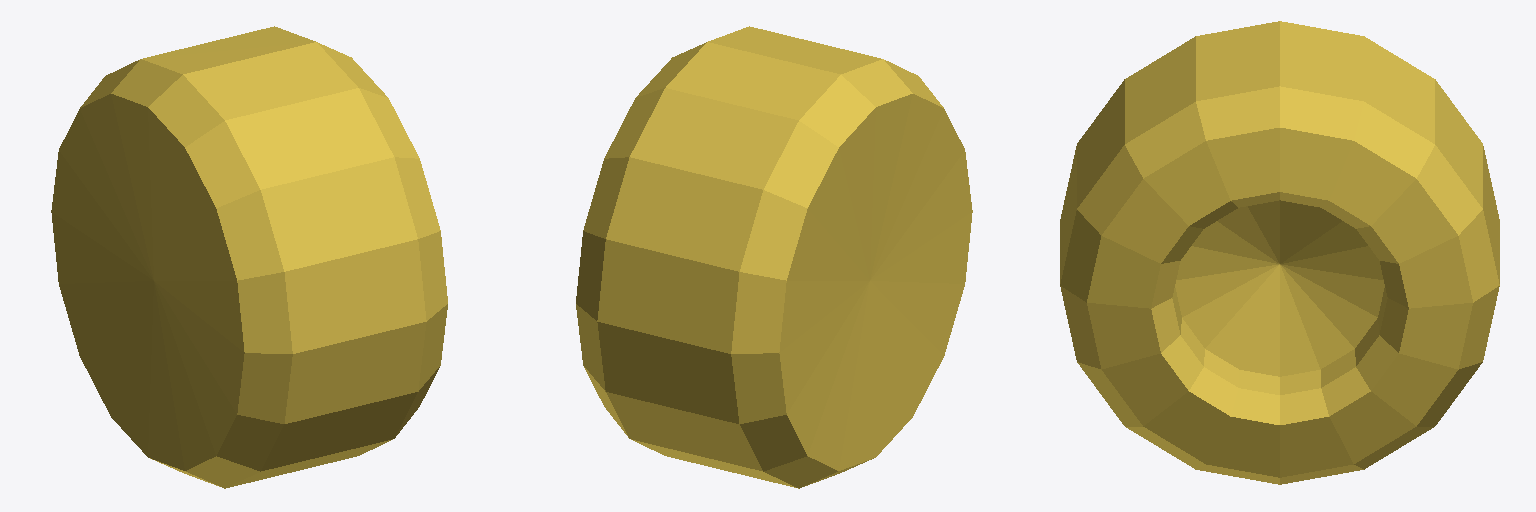
Rendered from frontRightWheel.obj.
3 views of the same model, side by side, from view 1: azimuth 30°, elevation 25°; view 2: azimuth 150°, elevation 25°; view 3: azimuth 270°, elevation 25° (orthographic).
Visible parts, largest first — view 1: Object002; view 2: Object002; view 3: Object002.
Boxes of the visible parts, box(x1,y1,x2,y2) form: Object002: box(51, 26, 447, 488); Object002: box(576, 26, 972, 488); Object002: box(1060, 21, 1499, 484).
Size of the model in its own units: 3.48 by 6.14 by 6.14.